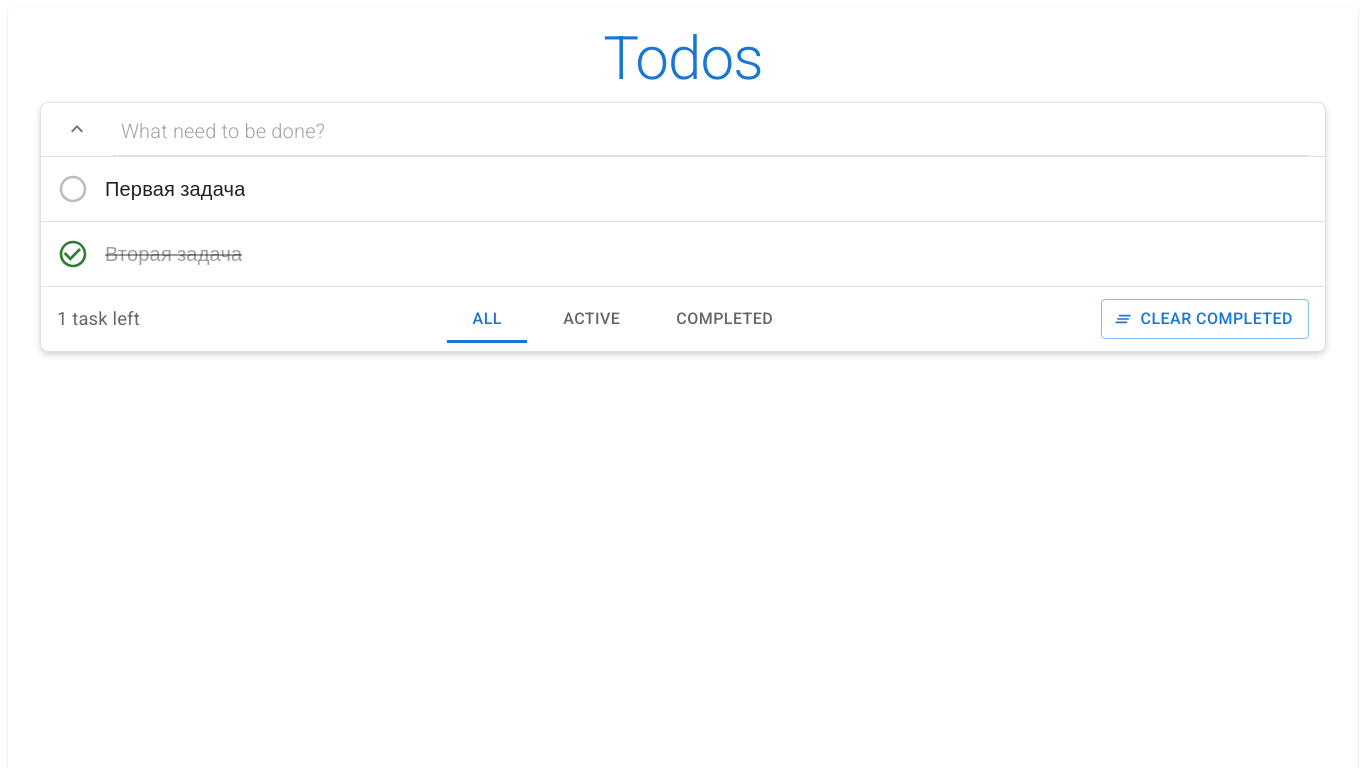
Test case: Фильтрация и очистка задач › Фильтрация выполненных задач
Expected: the text "Первая задача" is shown, [105,174,246,204]
Click the tab with test id "filter-tab-completed". click: (725, 319)
box: [656,295,793,343]
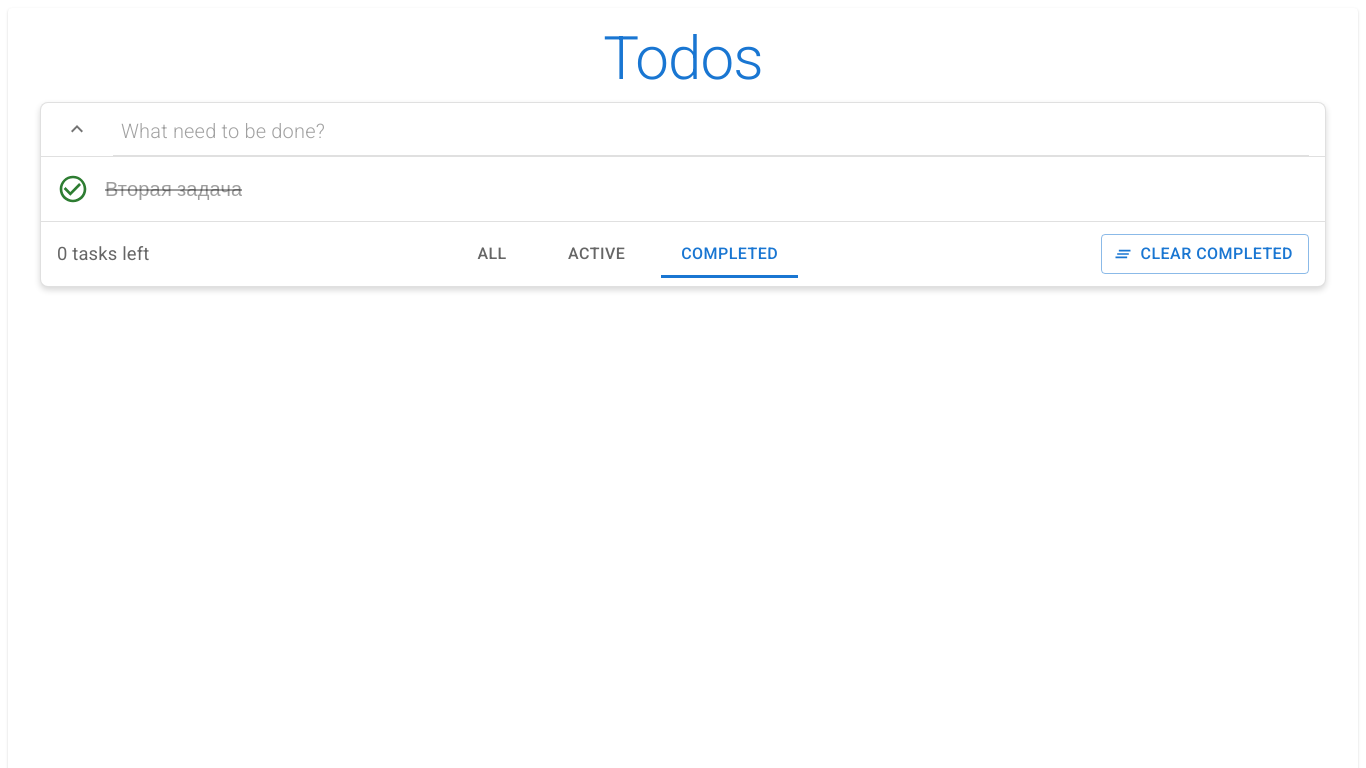
Expected: the text "Вторая задача" is shown, [105,174,242,204]
Expected: the text "Первая задача" is gone
Expected: the text with test id "items-left-count" reads "0 tasks left", [57,240,150,268]
